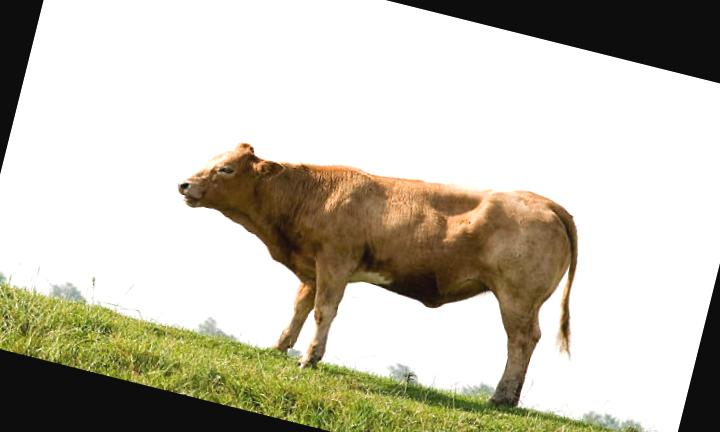Charolais: (179, 143, 578, 405)
